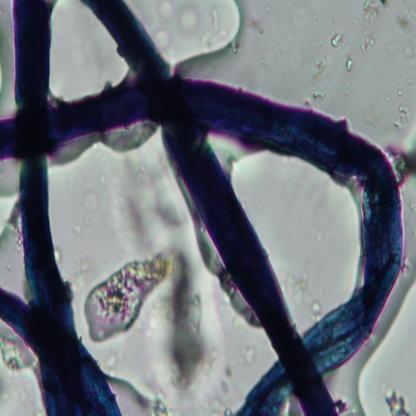Air bubble: (352, 270, 416, 414), (162, 0, 242, 78), (0, 192, 20, 236)
Background material: (156, 253, 217, 396), (82, 249, 171, 343), (118, 178, 180, 242), (360, 2, 388, 54), (73, 178, 102, 228), (154, 0, 196, 31), (391, 134, 416, 182), (383, 36, 416, 66), (382, 387, 410, 416), (286, 266, 305, 303), (238, 339, 260, 364), (396, 4, 413, 32), (310, 56, 330, 79), (393, 105, 410, 132), (329, 27, 347, 50), (243, 18, 268, 34), (307, 299, 323, 320), (310, 83, 327, 102), (221, 369, 236, 388), (336, 79, 352, 95), (394, 84, 406, 100), (342, 55, 354, 70)
Cotton: (0, 1, 405, 415)
